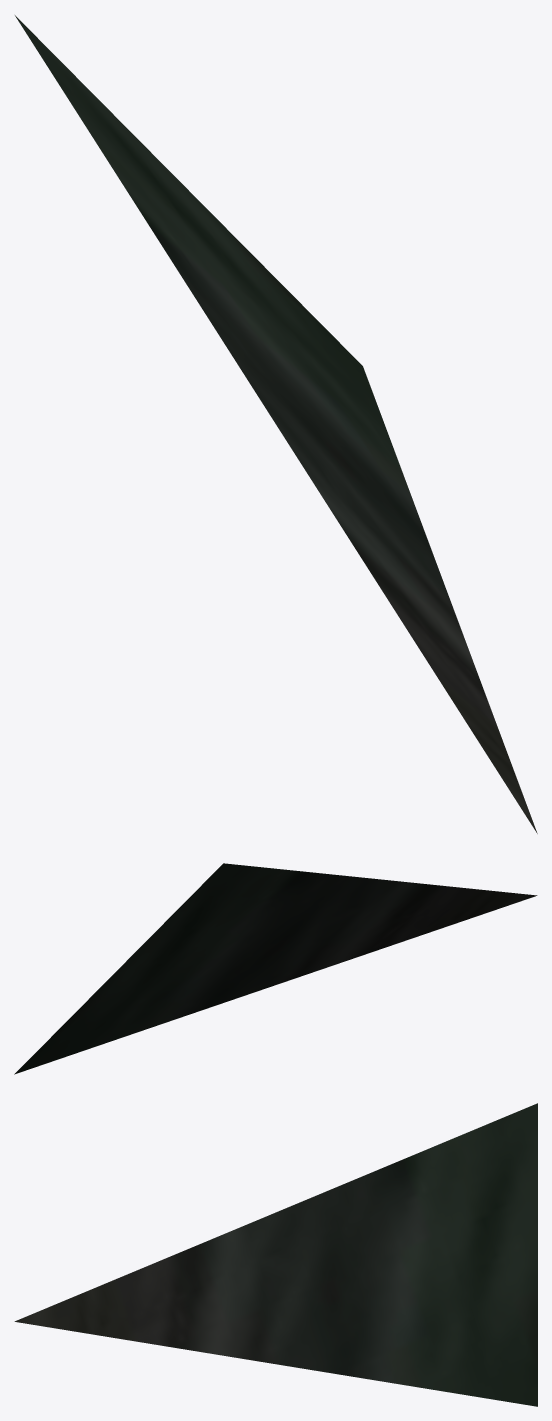
3 renders of one model, top to bottom at view 1: azimuth 30°, elevation 25°; view 2: azimuth 150°, elevation 25°; view 3: azimuth 270°, elevation 25°, orthographic. The views are drawn at different scales.
Size of the model in its own units: 0.3861 by 0.4622 by 1.
Materials: 1 (1 with a texture image).
